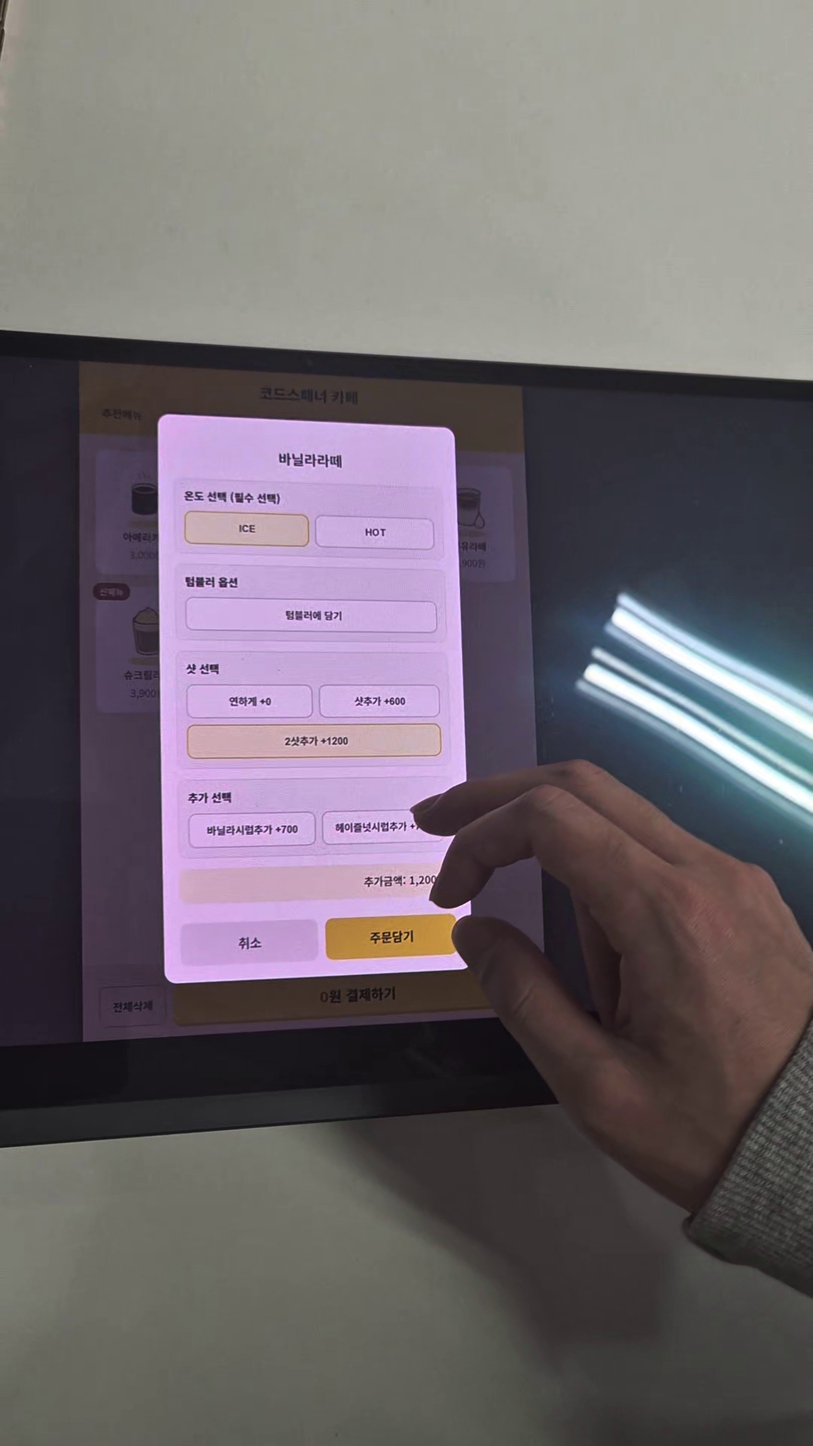action_button: (181, 919, 318, 966), (322, 915, 459, 962)
option_button: (186, 723, 441, 758), (186, 598, 437, 633), (184, 512, 309, 548), (190, 812, 315, 848), (314, 515, 438, 551), (188, 684, 312, 720), (318, 681, 442, 717), (323, 810, 447, 846)
popup_modal: (157, 413, 474, 983)
